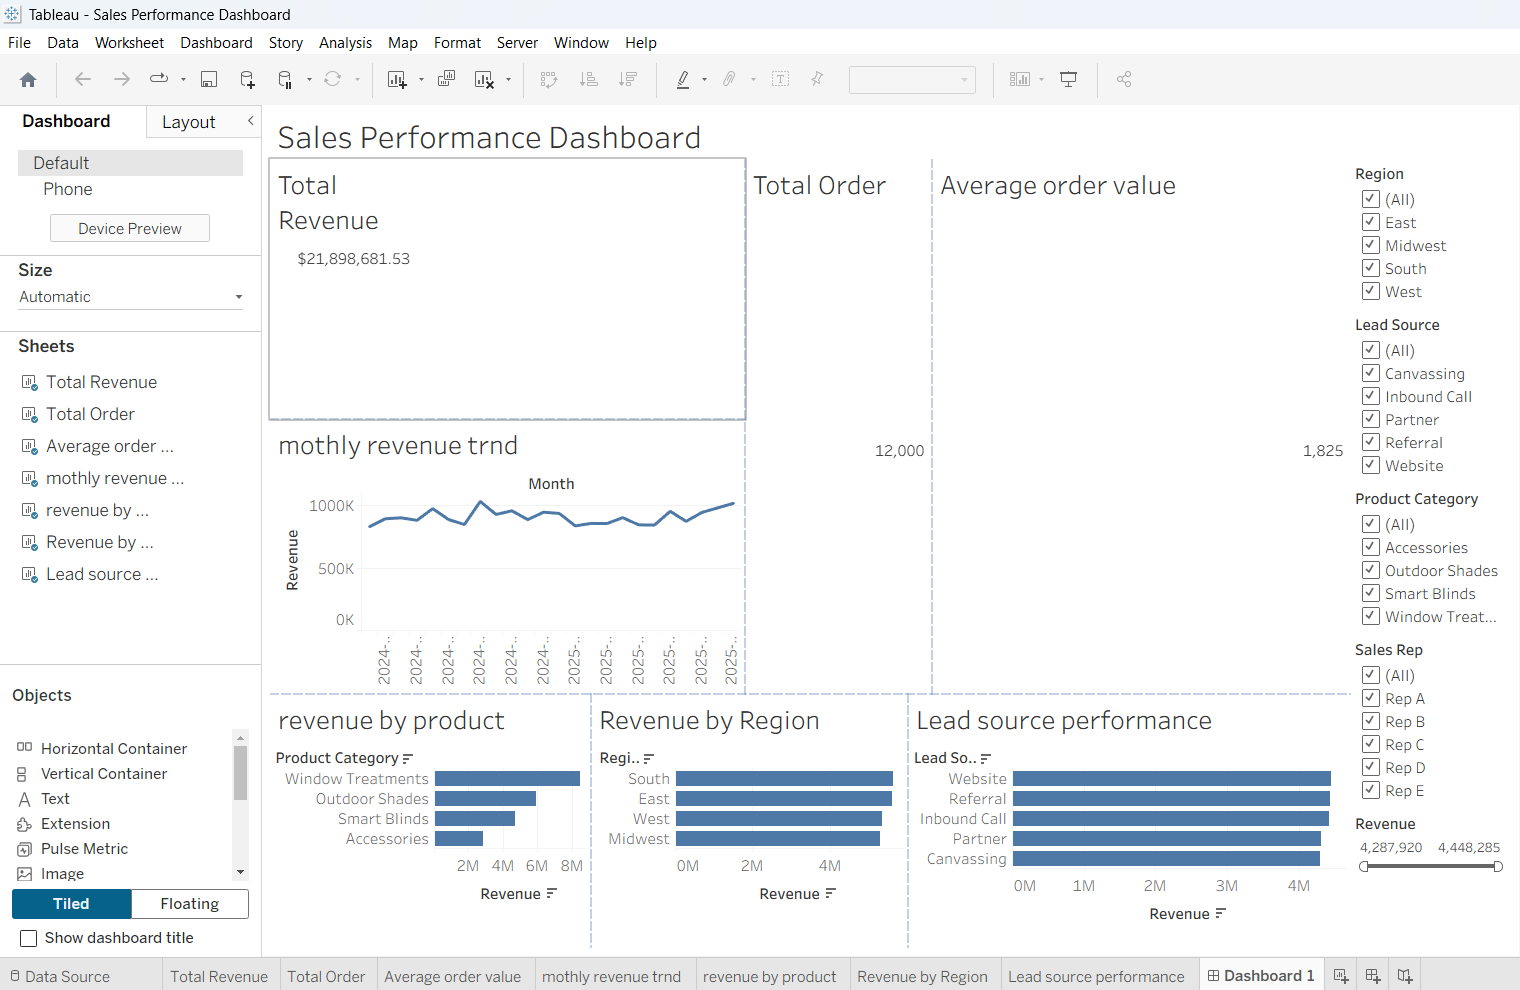

This screenshot's page, from the dashboard's own definition file:
{"tool":"tableau","page":{"name":"Dashboard 1","canvas":[1000,1000],"units":"permille","ordinal":0},"visuals":[{"type":"title","box":[4.8,9.4,990.3,54.1]},{"type":"worksheet","title":"Total Revenue","mark":"Automatic","box":[4.8,63.5,392.9,305.3]},{"type":"worksheet","title":"Total Order","mark":"Automatic","box":[397.7,63.5,154.5,628.7]},{"type":"worksheet","title":"Average order value","mark":"Automatic","box":[552.2,63.5,346.4,628.7]},{"type":"filter","title":"Revenue by Region","param":"[federated.068o2gq1iqhcce1fqtznq02iiwig].[none:region:nk]","box":[898.6,63.5,96.6,177.4]},{"type":"filter","title":"Lead source performance","param":"[federated.068o2gq1iqhcce1fqtznq02iiwig].[none:lead_source:nk]","box":[898.6,240.9,96.6,204.5]},{"type":"worksheet","title":"mothly revenue trnd","mark":"Line","rows":["revenue"],"cols":["month"],"box":[4.8,368.8,392.9,323.4]},{"type":"filter","title":"Lead source performance","param":"[federated.068o2gq1iqhcce1fqtznq02iiwig].[none:product_category:nk]","box":[898.6,445.4,96.6,177.4]},{"type":"filter","title":"Lead source performance","param":"[federated.068o2gq1iqhcce1fqtznq02iiwig].[none:sales_rep:nk]","box":[898.6,622.8,96.6,204.5]},{"type":"worksheet","title":"revenue by product","mark":"Automatic","rows":["product_category"],"cols":["revenue"],"box":[4.8,692.1,265.2,298.5]},{"type":"worksheet","title":"Revenue by Region","mark":"Automatic","rows":["region"],"cols":["revenue"],"box":[270.1,692.1,262,298.5]},{"type":"worksheet","title":"Lead source performance","mark":"Automatic","rows":["lead_source"],"cols":["revenue"],"box":[532,692.1,366.6,298.5]},{"type":"filter","title":"Lead source performance","param":"[federated.068o2gq1iqhcce1fqtznq02iiwig].[sum:revenue:qk]","box":[898.6,827.2,96.6,85.8]}]}

Visuals, with their boxes on the dashboard's canvas, which has no fixed pixel size, in thousandths of its width and height (x1, y1, x2, y2). These are canvas units, not pixel positions in the 1520x990 screenshot, which may show the page scaled, cropped or inside an application window:
title: x1=5, y1=9, x2=995, y2=64
"Total Revenue" worksheet: x1=5, y1=64, x2=398, y2=369
"Total Order" worksheet: x1=398, y1=64, x2=552, y2=692
"Average order value" worksheet: x1=552, y1=64, x2=899, y2=692
"Revenue by Region" filter: x1=899, y1=64, x2=995, y2=241
"Lead source performance" filter: x1=899, y1=241, x2=995, y2=445
"mothly revenue trnd" worksheet (Line marks): x1=5, y1=369, x2=398, y2=692
"Lead source performance" filter: x1=899, y1=445, x2=995, y2=623
"Lead source performance" filter: x1=899, y1=623, x2=995, y2=827
"revenue by product" worksheet: x1=5, y1=692, x2=270, y2=991
"Revenue by Region" worksheet: x1=270, y1=692, x2=532, y2=991
"Lead source performance" worksheet: x1=532, y1=692, x2=899, y2=991
"Lead source performance" filter: x1=899, y1=827, x2=995, y2=913
